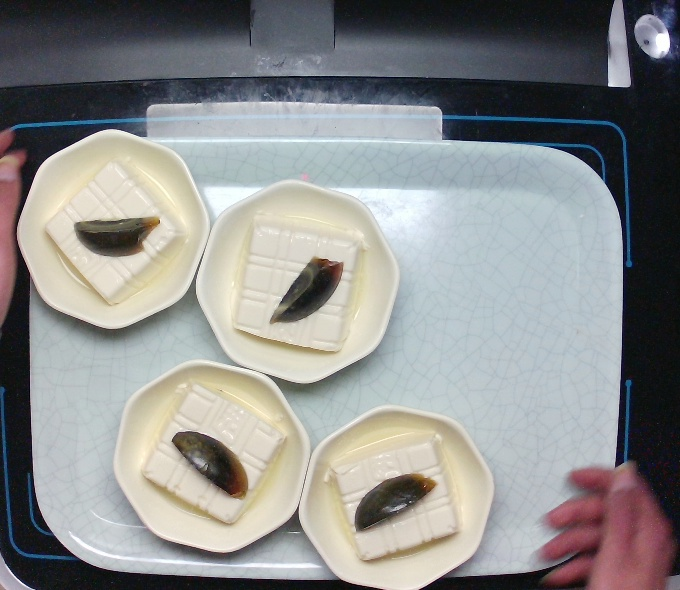wcq-PiDanDouFu: (137, 377, 293, 530), (39, 155, 192, 307), (228, 210, 376, 366), (326, 421, 465, 565)
